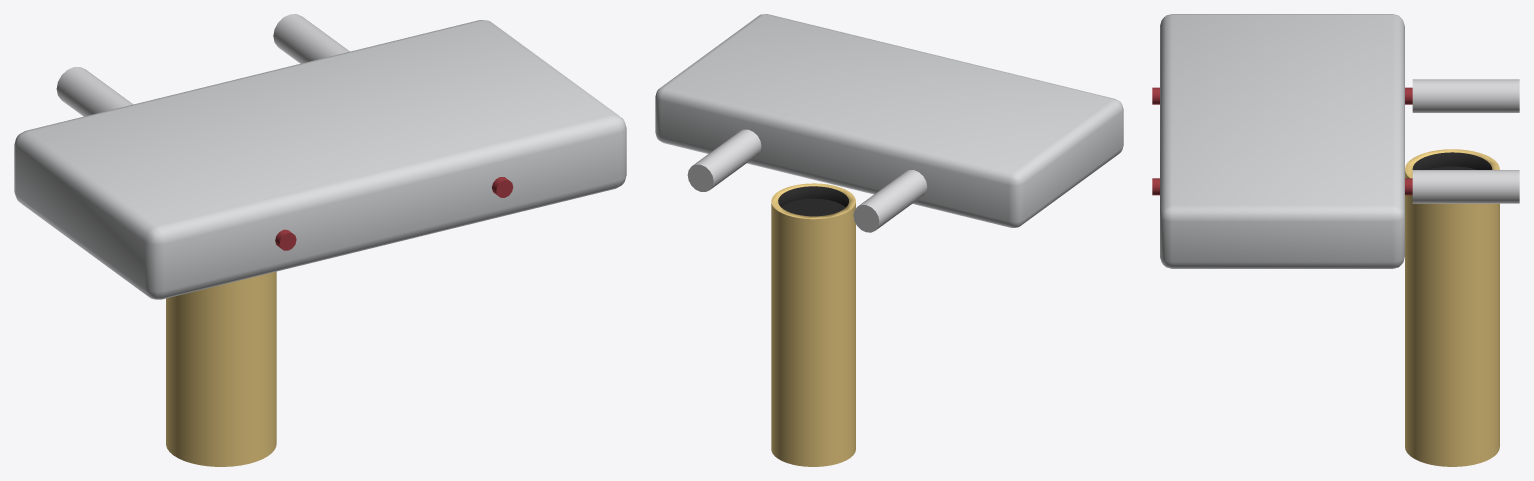
3 renders of one model, left to right at view 1: azimuth 30°, elevation 25°; view 2: azimuth 150°, elevation 25°; view 3: azimuth 270°, elevation 25°, orthographic. The views are drawn at different scales.
Visible parts, largest first — view 1: vibraphone_default; view 2: vibraphone_default; view 3: vibraphone_default.
Part boxes in pixels (<box>): vibraphone_default: <box>14,14,626,466</box>; vibraphone_default: <box>655,14,1123,466</box>; vibraphone_default: <box>1152,14,1519,466</box>.
Size of the model in its own units: 0.62 by 0.485 by 0.48.
